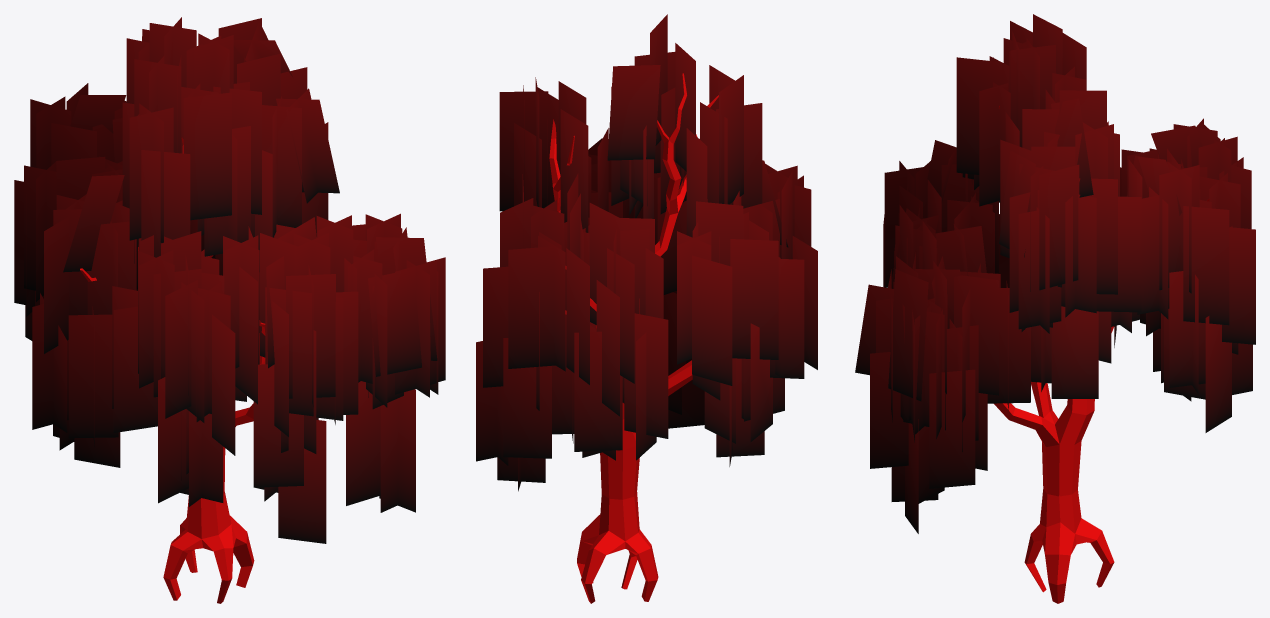
Rendered from SM_Tree_Willow_Large_01.glb.
The picture shows the model from 3 angles, left to right: view 1: azimuth 30°, elevation 25°; view 2: azimuth 150°, elevation 25°; view 3: azimuth 270°, elevation 25°; orthographic projection. The views are drawn at different scales.
Visible parts, largest first — view 1: SM_Tree_Willow_Large_01; view 2: SM_Tree_Willow_Large_01; view 3: SM_Tree_Willow_Large_01.
Boxes of the visible parts, bbox=[...] form: SM_Tree_Willow_Large_01: bbox=[14, 17, 445, 603]; SM_Tree_Willow_Large_01: bbox=[476, 14, 817, 603]; SM_Tree_Willow_Large_01: bbox=[855, 14, 1255, 603].
Bounding box in the file's own units: 5.8 × 9.62 × 6.35.
